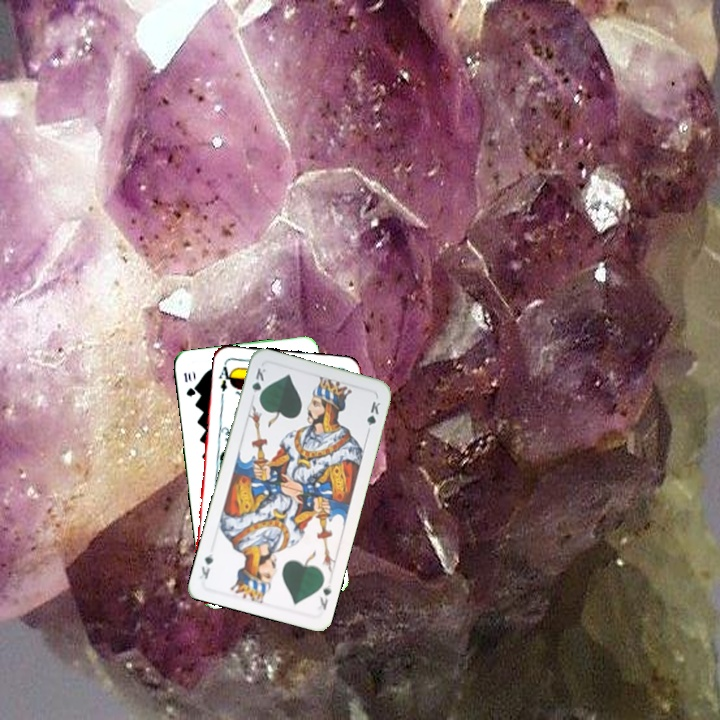EA: (215, 359, 235, 400)
G10: (180, 368, 198, 399)
GK: (248, 364, 268, 404), (315, 581, 334, 613)
